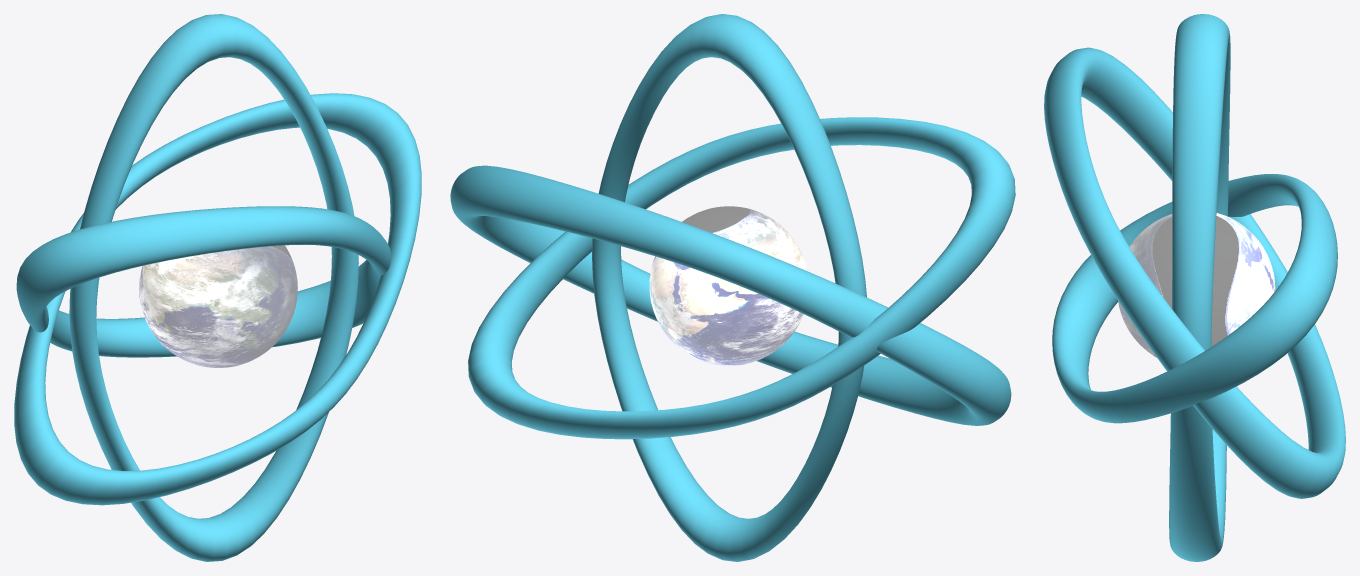
The model's file is portfolio.gltf.
3 views of the same model, side by side, from view 1: azimuth 30°, elevation 25°; view 2: azimuth 150°, elevation 25°; view 3: azimuth 270°, elevation 25° (orthographic).
Visible parts, largest first — view 1: Torus 2 (×3), Sphere 1; view 2: Torus 2 (×3), Sphere 1; view 3: Torus 2 (×3), Sphere 1.
Part boxes in pixels (left/top/right/bottom): Torus 2 (×3): left=14, top=14, right=421, bottom=561; Sphere 1: left=139, top=245, right=297, bottom=367; Torus 2 (×3): left=450, top=14, right=1015, bottom=561; Sphere 1: left=649, top=206, right=807, bottom=365; Torus 2 (×3): left=1044, top=14, right=1345, bottom=561; Sphere 1: left=1118, top=213, right=1275, bottom=357.
Bounding box in the file's own units: 0.3252 × 0.36 × 0.1831.
Materials: 4 (1 with a texture image).
